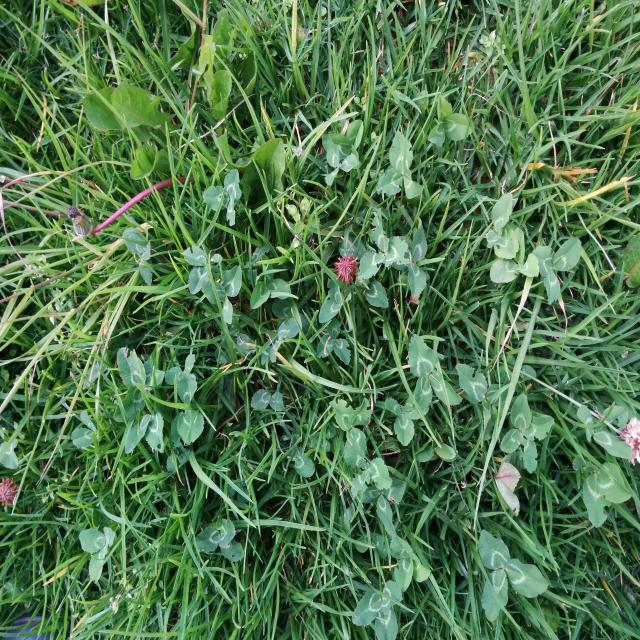Four Leaf Clover: (501, 393, 554, 474)
